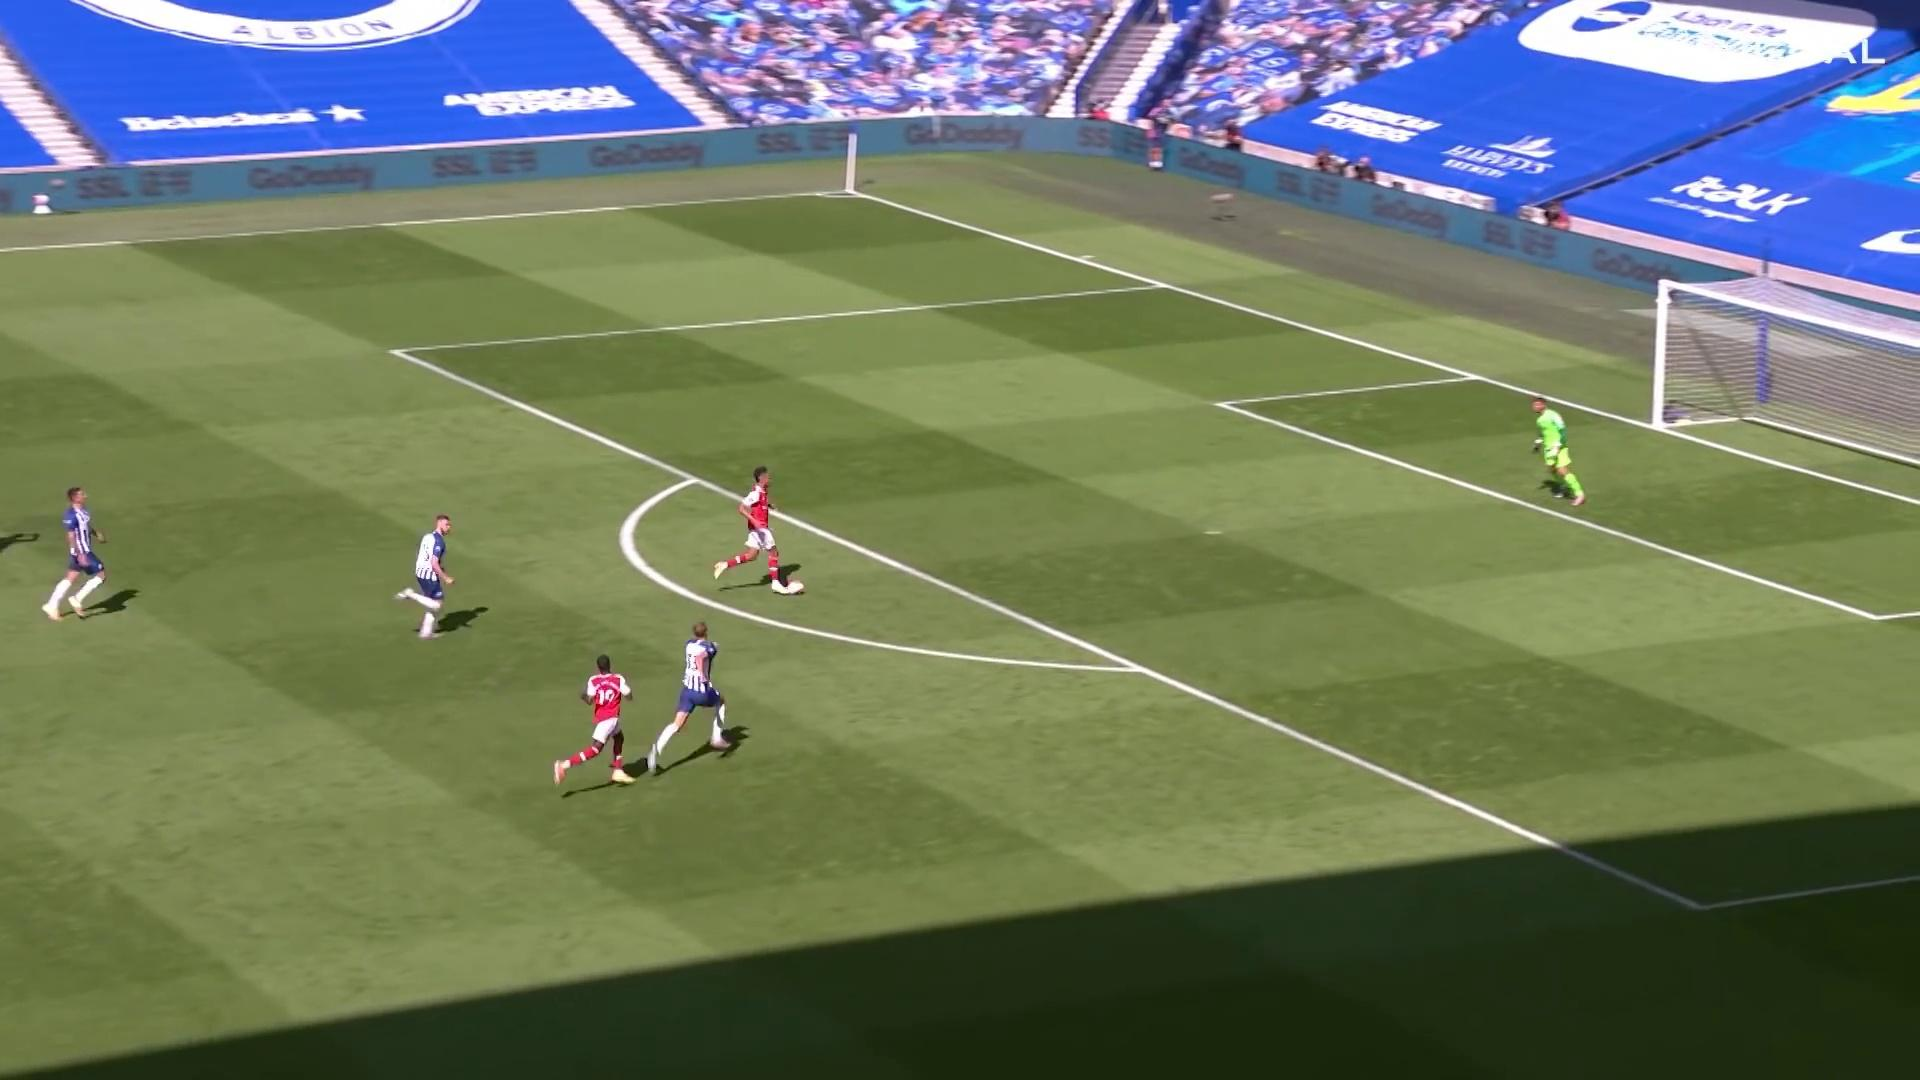ball: (787, 578, 806, 597)
goalkeeper: (1523, 394, 1586, 510)
player: (650, 619, 747, 779), (553, 650, 646, 794), (710, 461, 805, 597), (41, 486, 112, 629), (394, 511, 456, 645)
